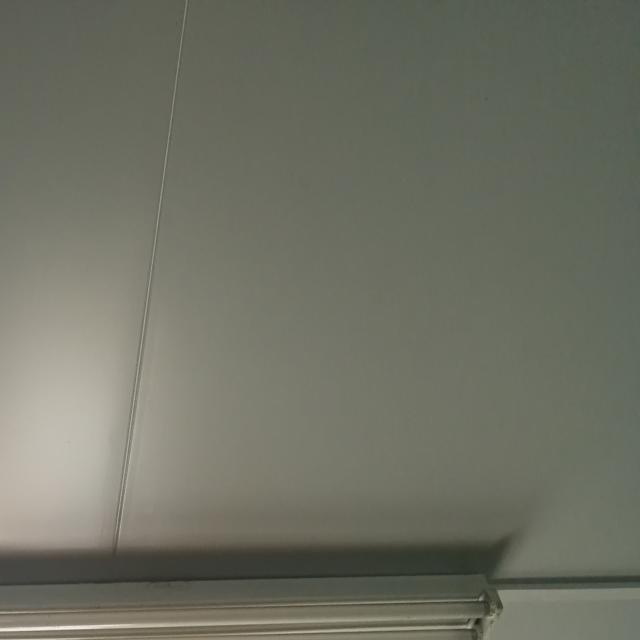fluorescent tube: (0, 542, 513, 640)
